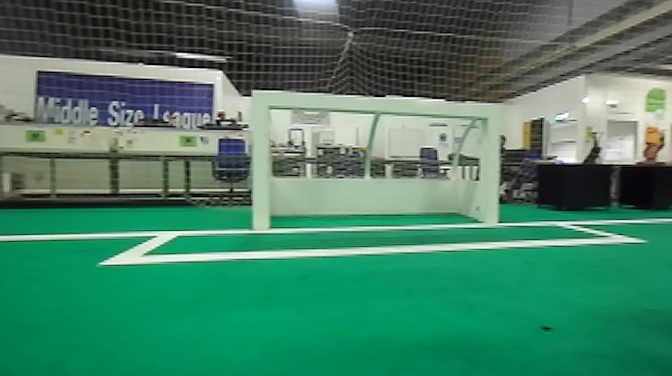goalpost: (479, 95, 512, 242), (244, 88, 275, 233)
